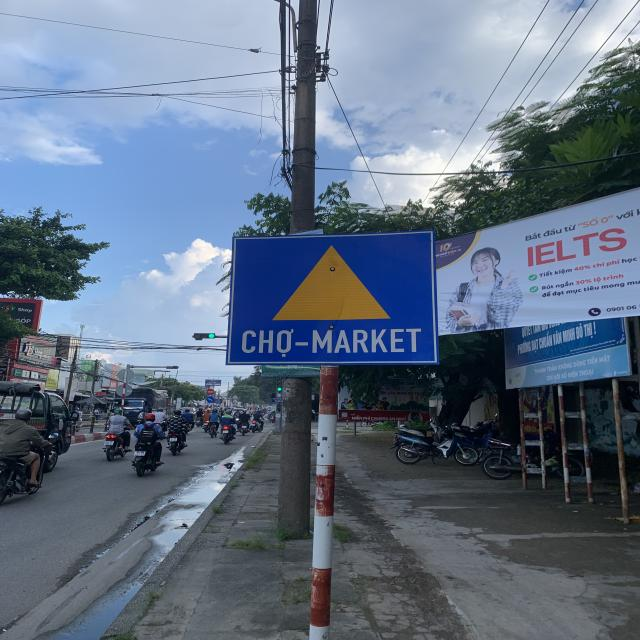Cho_Quay_Xe: (229, 235, 443, 367)
